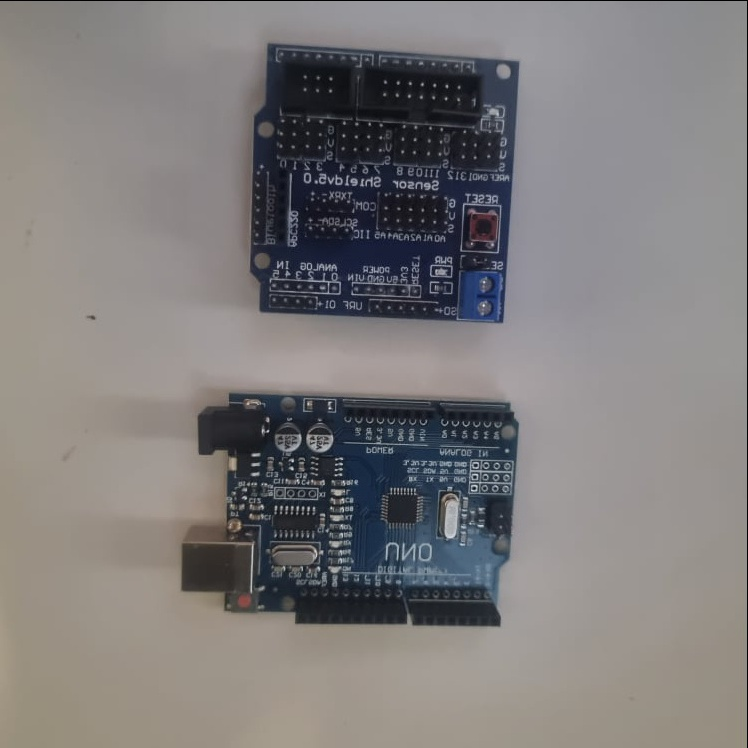5V EXPANSION: (248, 39, 524, 326)
UNO R3: (182, 399, 527, 628)
